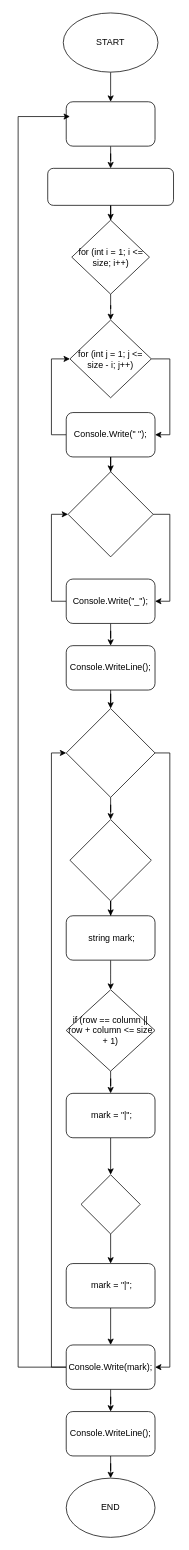
Some shapes in this 189 by 1550 pixel diagram are drawn without their labels. The shapes that lost their labels are listed below. From the top down, each one's centre as x and y in pixels, then its label:
point 110,123: static void House()
point 110,186: int size = int.Parse(Console.ReadLine());
point 110,514: for (int j = 1; j <= i * 2 - 1; j++)
point 110,752: for (int row = 1; row < size; row++)
point 110,860: for (int column = 1; column <= size * 2; column++)
point 110,1204: else
